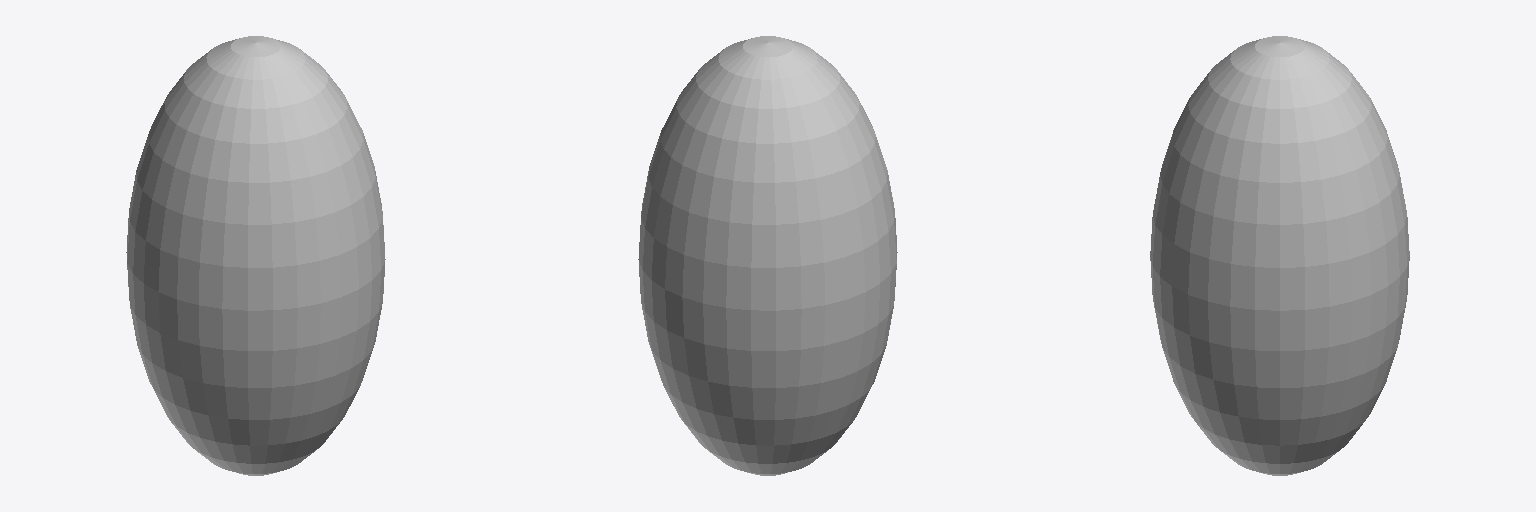
File: bullet.obj
3 views of the same model, side by side, from view 1: azimuth 30°, elevation 25°; view 2: azimuth 150°, elevation 25°; view 3: azimuth 270°, elevation 25° (orthographic).
Parts seen in each view (by area): view 1: Sphere; view 2: Sphere; view 3: Sphere.
Part boxes in pixels (left/top/right/bottom): Sphere: left=126, top=36, right=385, bottom=475; Sphere: left=638, top=36, right=897, bottom=475; Sphere: left=1150, top=36, right=1409, bottom=475.
Bounding box in the file's own units: 2 × 3.63 × 2.